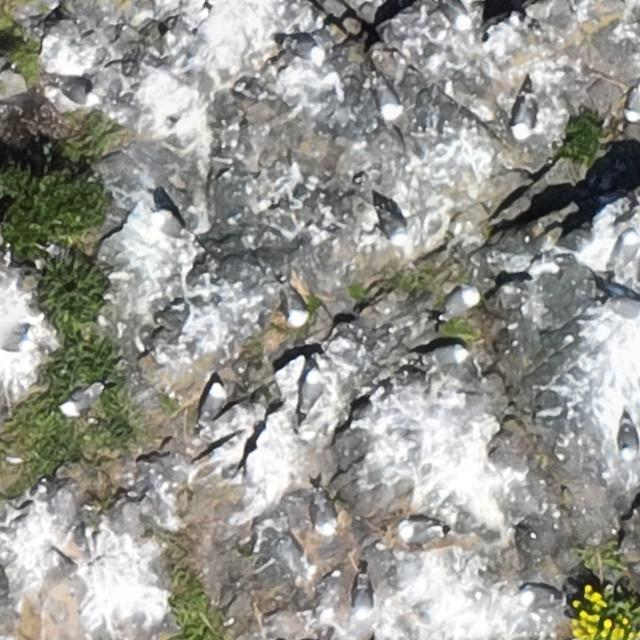umineko: (375, 201, 407, 246), (513, 89, 539, 143), (312, 492, 339, 541), (55, 82, 102, 110), (376, 76, 404, 122), (602, 292, 638, 324), (521, 585, 566, 610), (354, 572, 376, 622), (149, 213, 187, 241), (442, 289, 475, 316), (65, 387, 100, 411), (201, 384, 223, 420), (8, 333, 38, 358), (402, 522, 439, 542), (286, 290, 307, 325), (617, 234, 639, 266), (618, 421, 636, 460), (425, 346, 461, 365), (288, 39, 323, 58), (301, 370, 319, 406), (626, 84, 640, 118)
